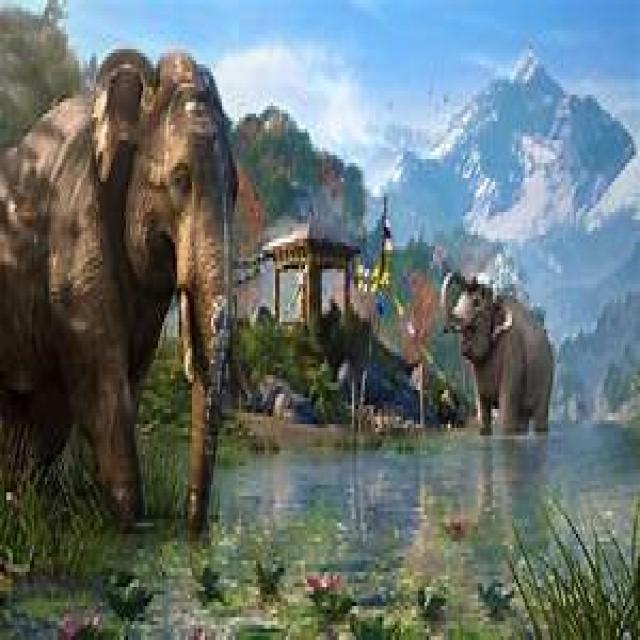elephant: (0, 49, 243, 538), (446, 276, 553, 436)
